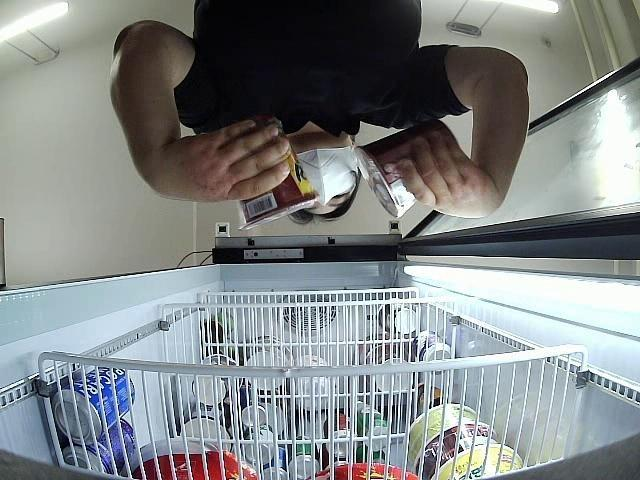06_nuguri_S: (351, 116, 464, 213), (230, 117, 315, 231)
